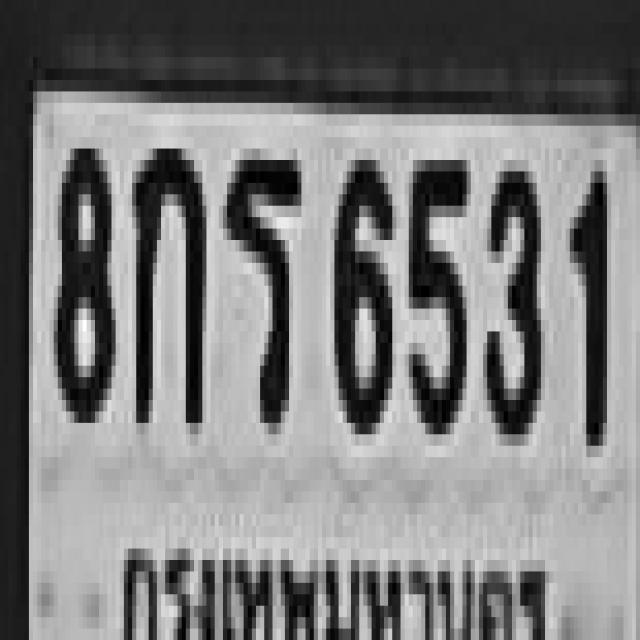1: (566, 160, 603, 434)
10GorGai: (128, 137, 202, 423)
3: (479, 160, 537, 434)
44RorRuea: (223, 148, 297, 423)
5: (404, 148, 466, 423)
6: (330, 148, 388, 423)
8: (50, 137, 112, 412)
